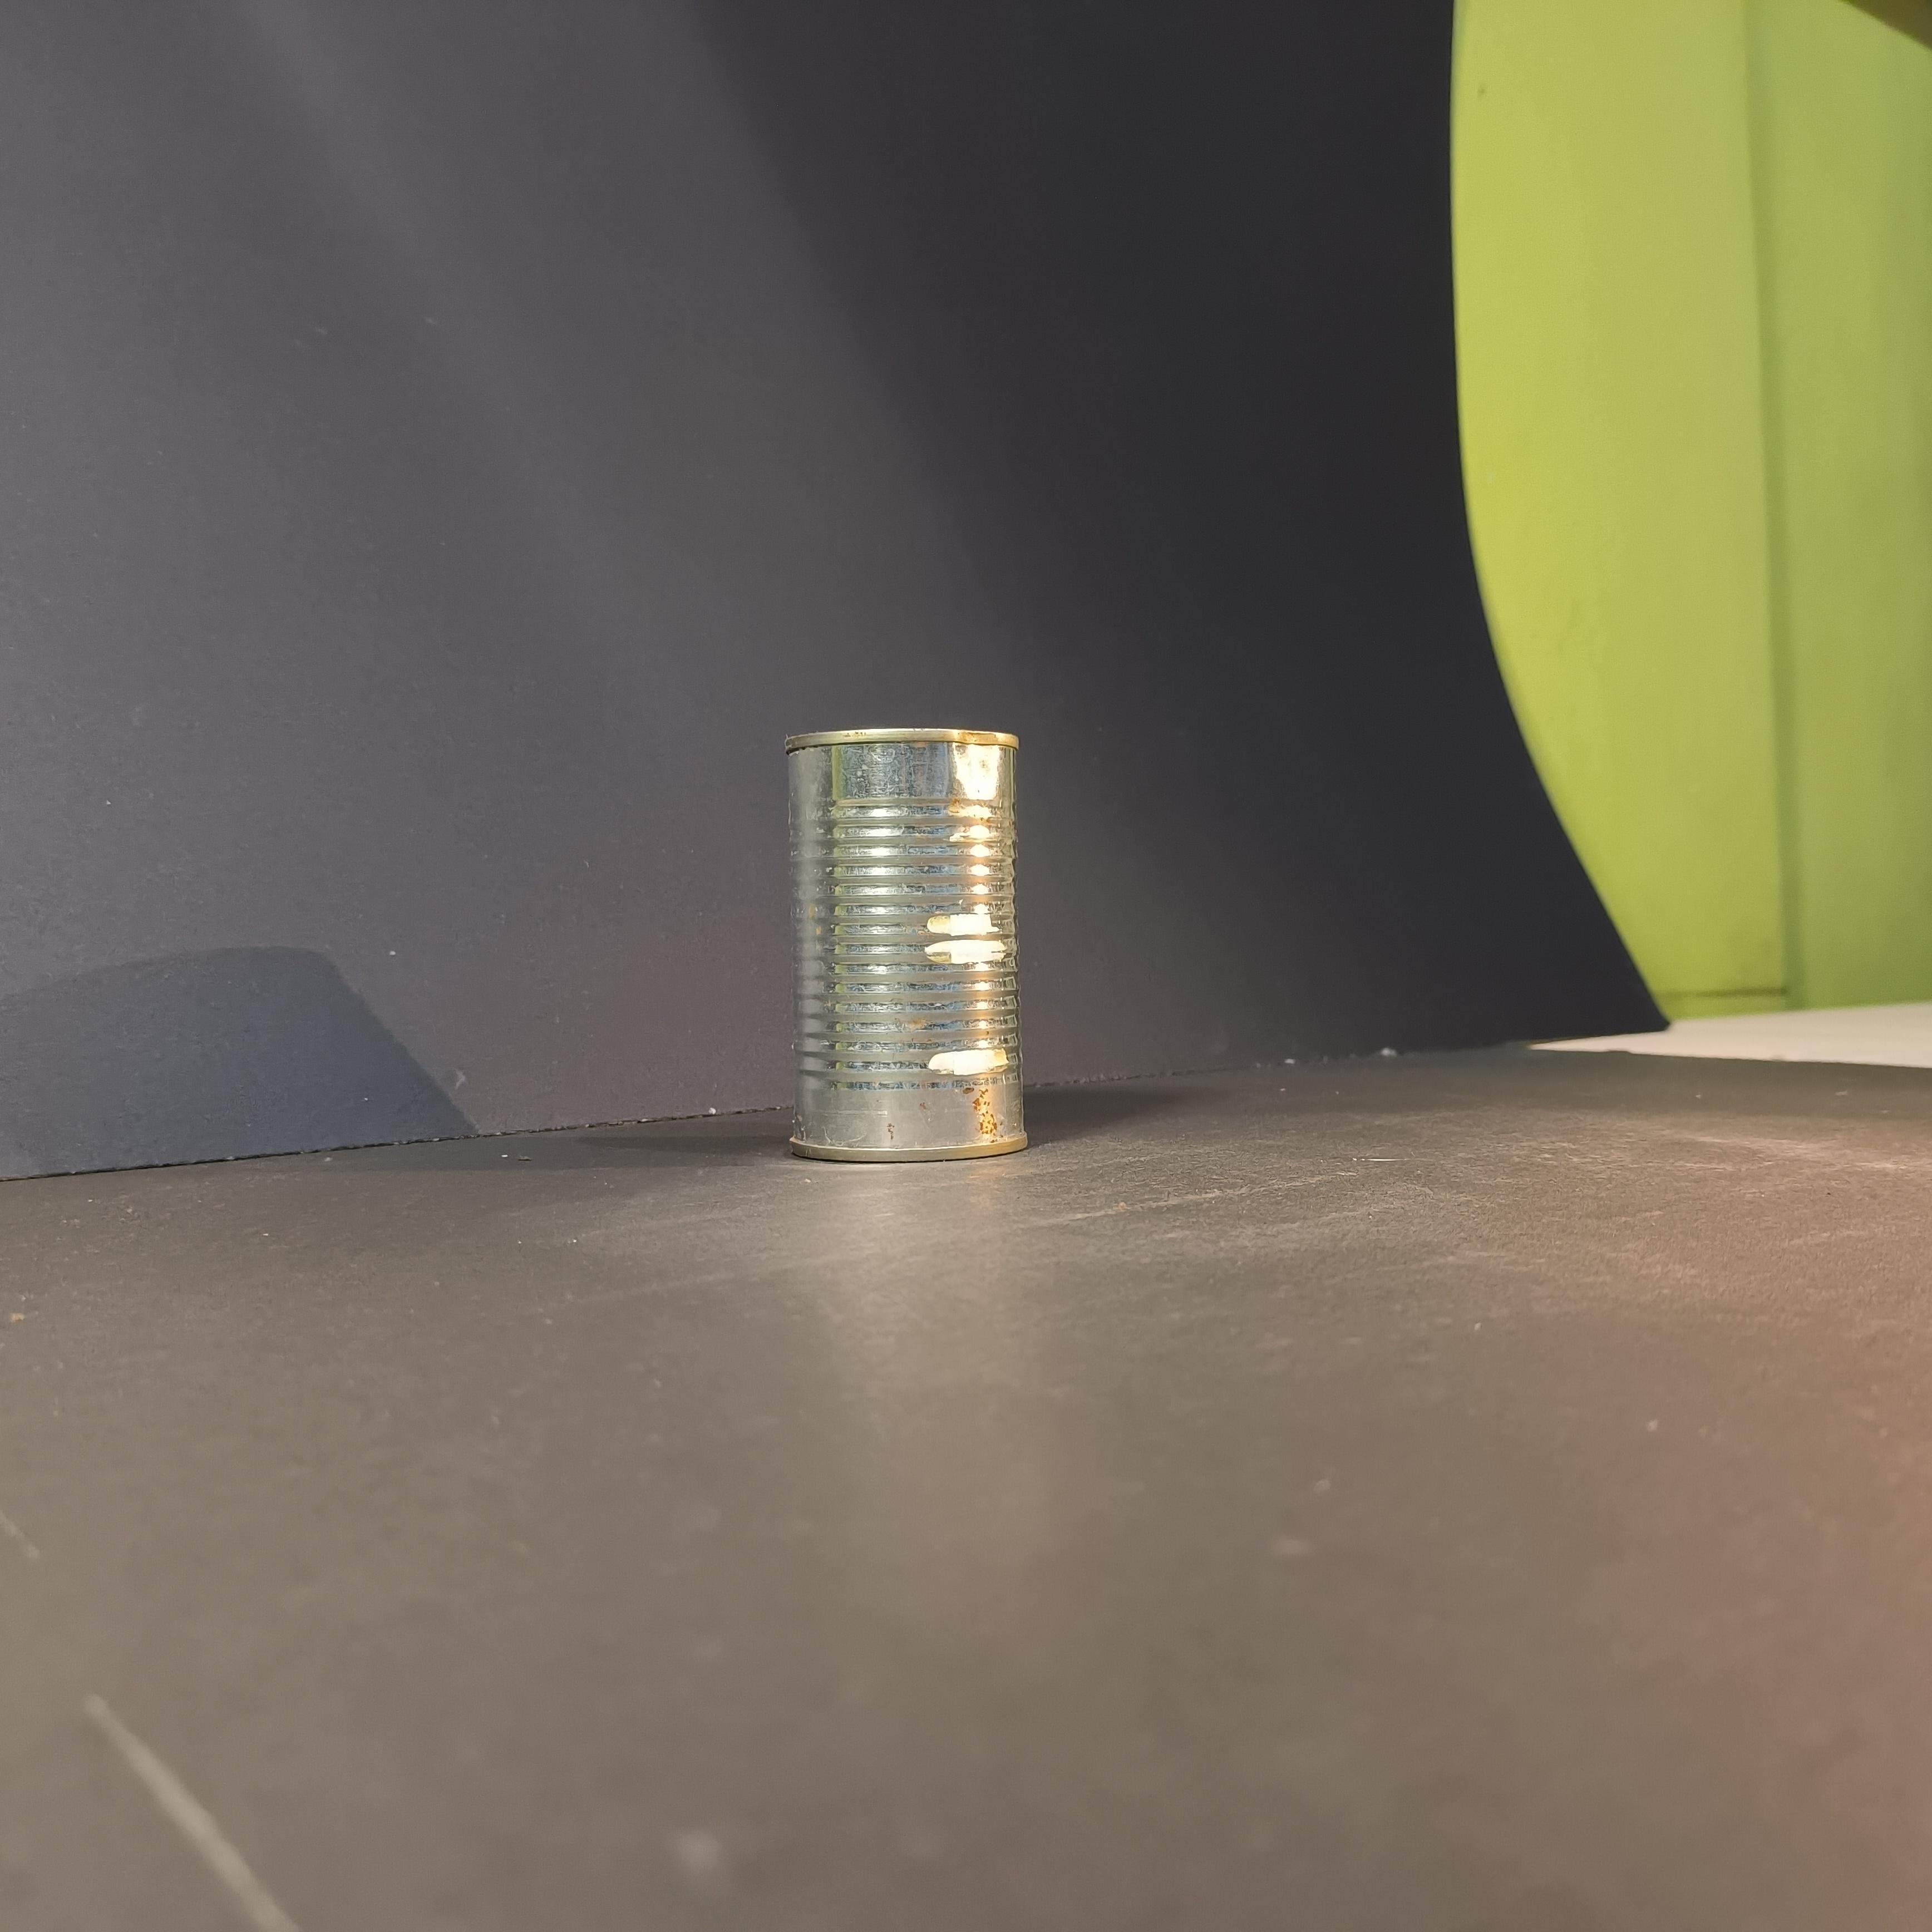Dented: (764, 695, 1049, 1187)
